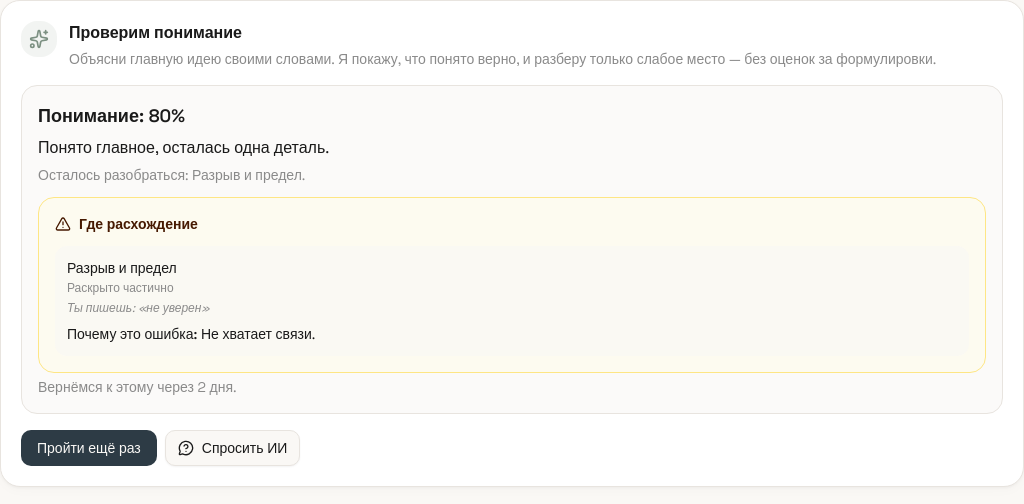
Scenario: ComprehensionCheck › shows the last score and offers another run
Expected: the text "Понимание: 80%" is shown, [38,104,185,127]
Expected: the text "Осталось разобраться: Разрыв и предел." is shown, [38,166,305,184]
Click the button with test id "comprehension-start".
click(89, 448)  # box [21,430,157,466]
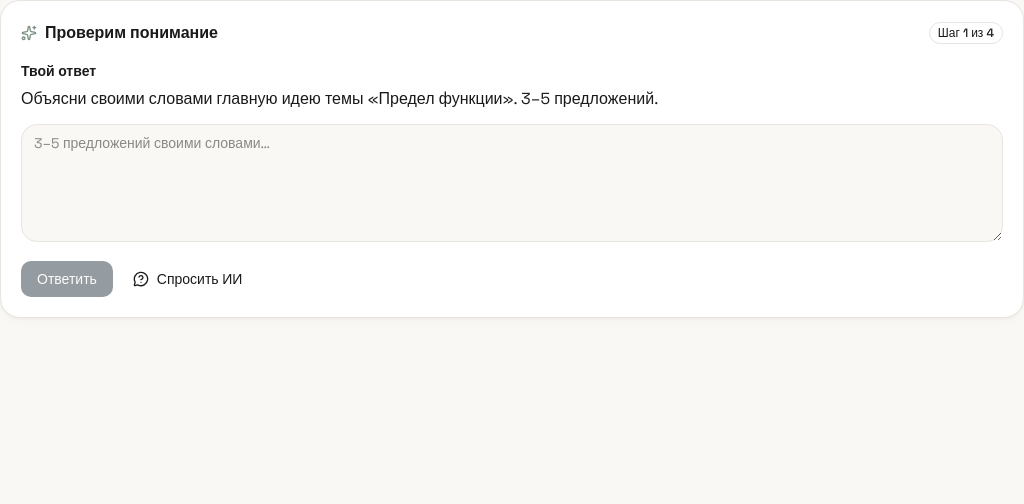
Now the text "Объясни своими словами" is shown, box [21,88,658,109]
